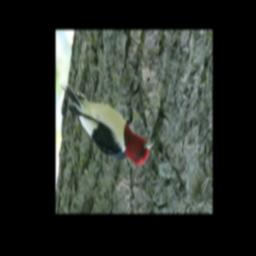Woodpecker: (57, 74, 160, 173)
